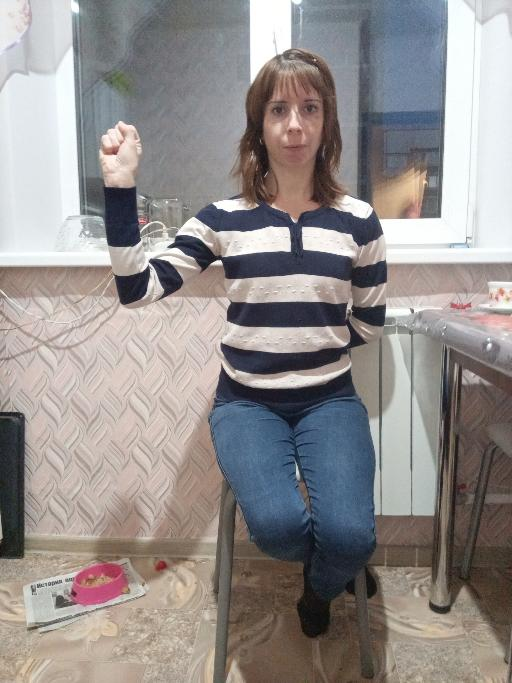fist: (97, 119, 142, 178)
